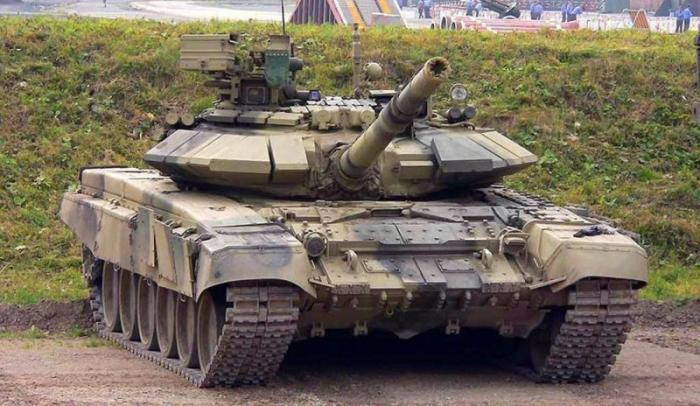person: (532, 1, 548, 24), (682, 6, 694, 31)
tank: (59, 25, 663, 406)
